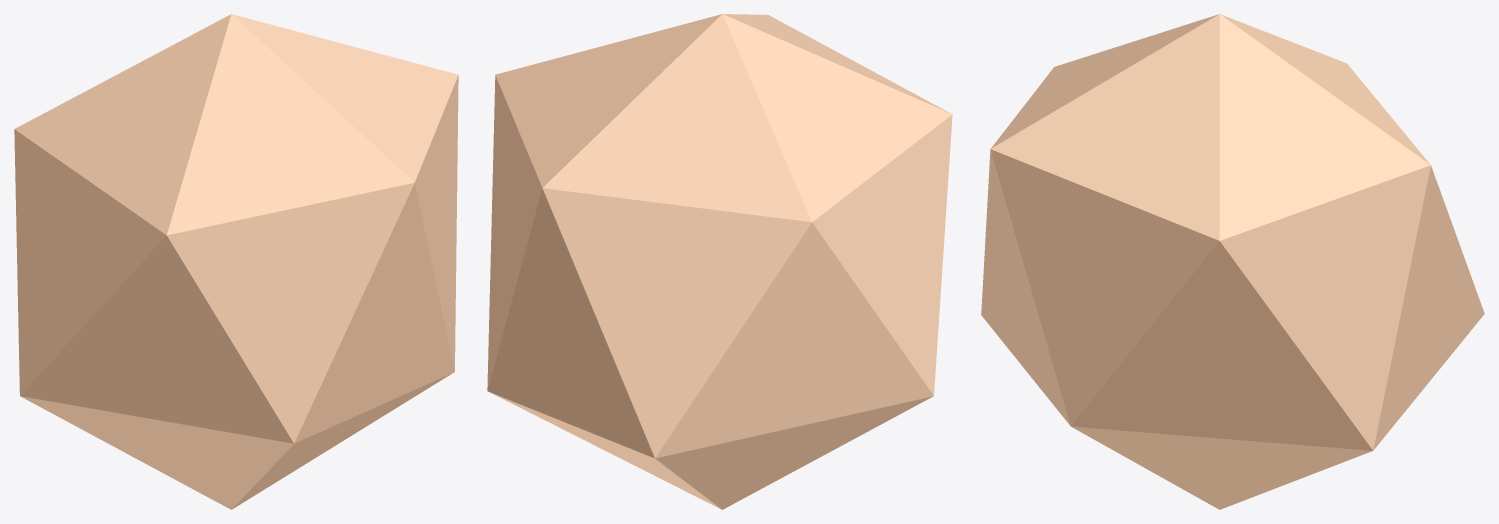
Rendered from proj_rock.glb.
3 renders of one model, left to right at view 1: azimuth 30°, elevation 25°; view 2: azimuth 150°, elevation 25°; view 3: azimuth 270°, elevation 25°, orthographic.
Parts seen in each view (by area): view 1: proj_rock; view 2: proj_rock; view 3: proj_rock.
Part boxes in pixels (bbox=[...]): proj_rock: bbox=[14, 14, 458, 509]; proj_rock: bbox=[487, 14, 952, 509]; proj_rock: bbox=[981, 14, 1484, 509].
Size of the model in its own units: 0.471 by 0.5088 by 0.4682.
